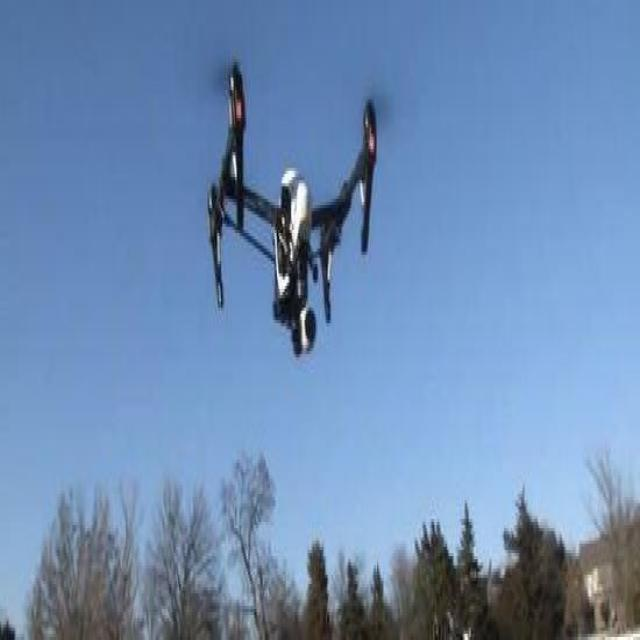drone: (203, 54, 391, 362)
